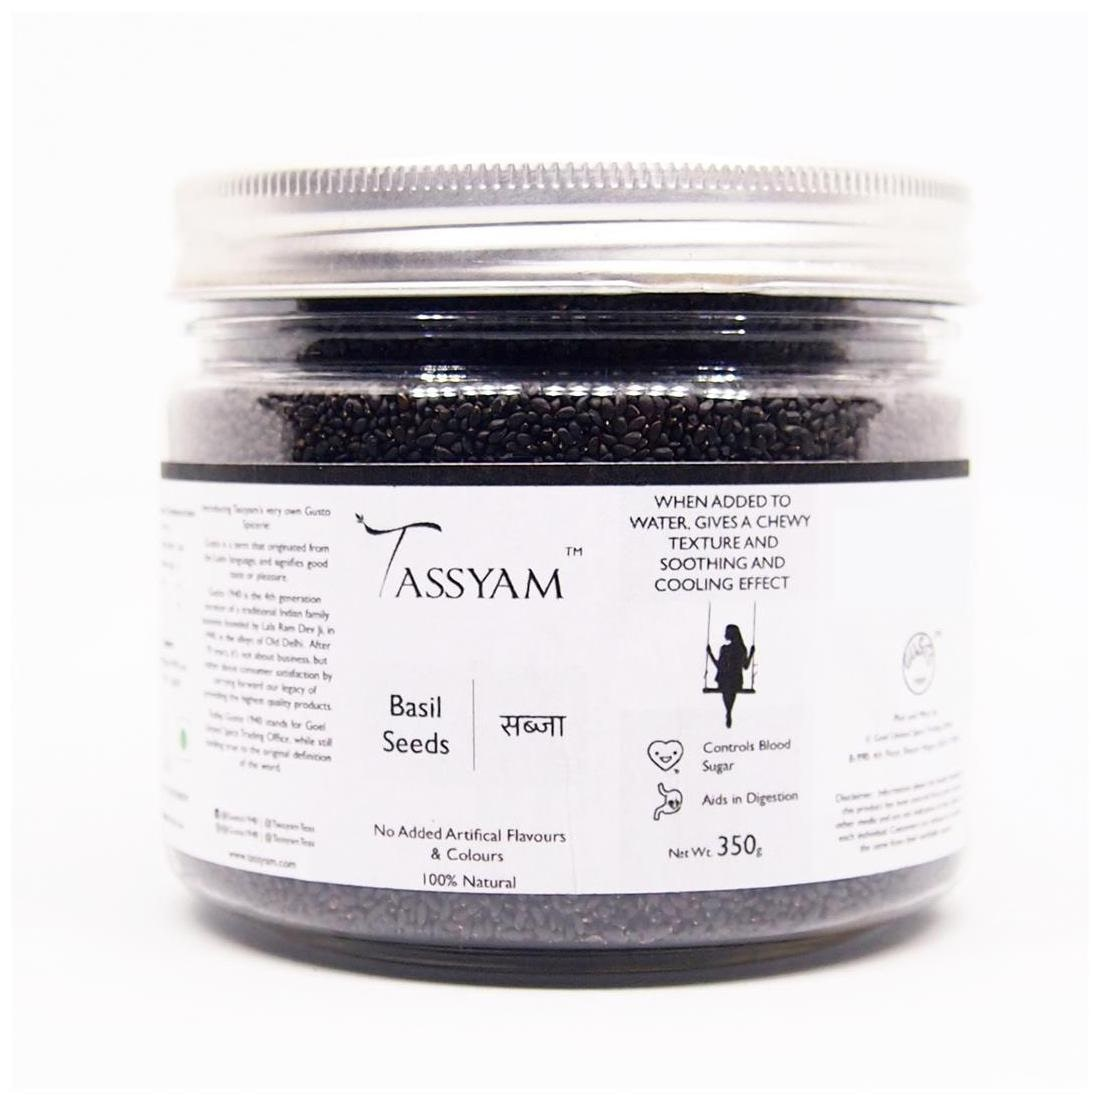JAR: (137, 149, 993, 997)
